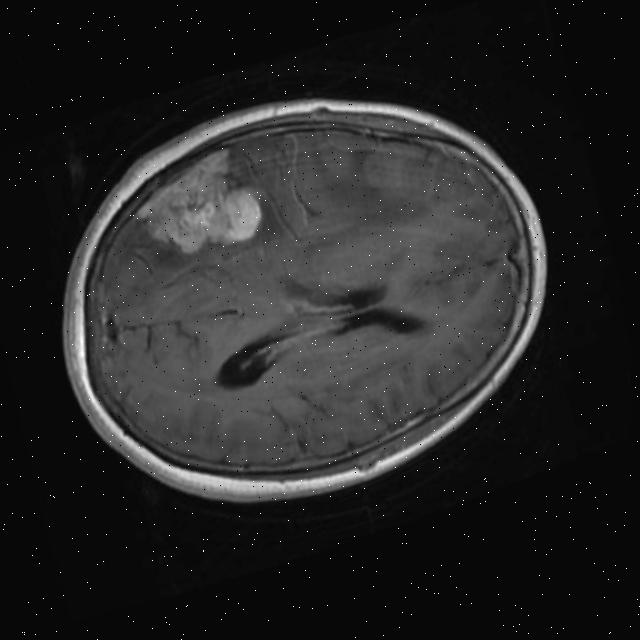Meningioma: (120, 135, 272, 278)
